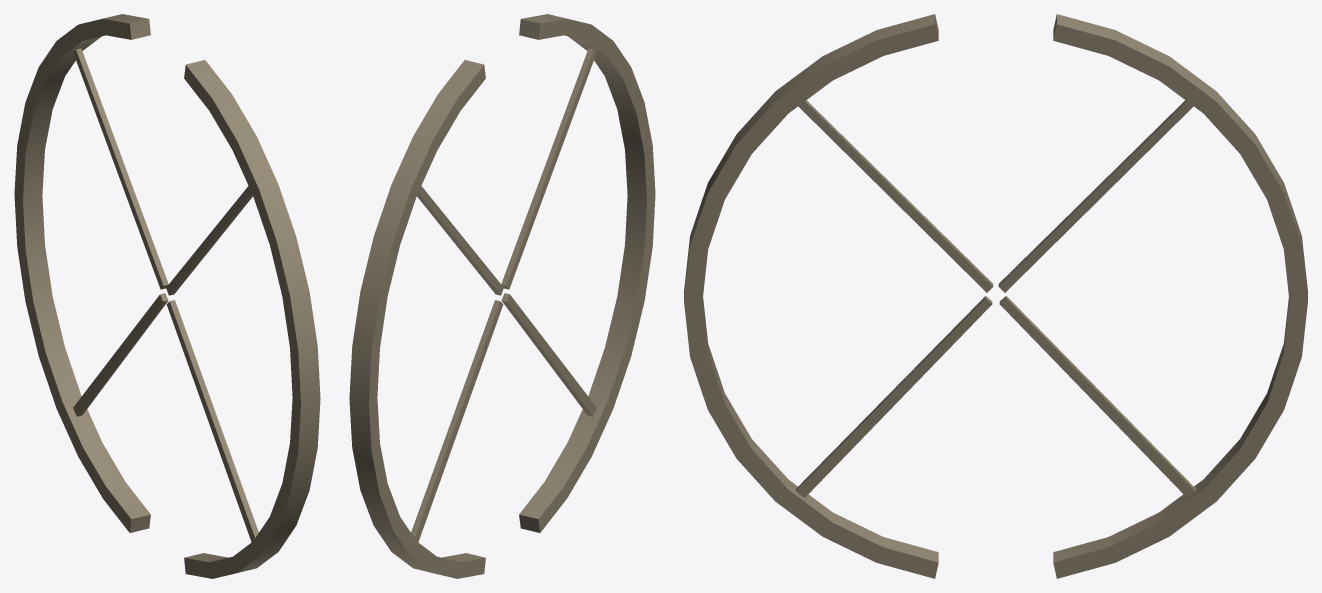
File: savHubInsulator2.fbx
3 views of the same model, side by side, from view 1: azimuth 30°, elevation 25°; view 2: azimuth 150°, elevation 25°; view 3: azimuth 270°, elevation 25° (orthographic). The views are drawn at different scales.
Parts seen in each view (by area): view 1: savHubInsulator2_LOD0; view 2: savHubInsulator2_LOD0; view 3: savHubInsulator2_LOD0.
Boxes of the visible parts, x1,y1,x2,y2 form: savHubInsulator2_LOD0: (14,14,320,578); savHubInsulator2_LOD0: (349,14,655,578); savHubInsulator2_LOD0: (684,14,1307,578).
Size of what is drawn, in the model's own units: 5.94 by 149 by 151.
